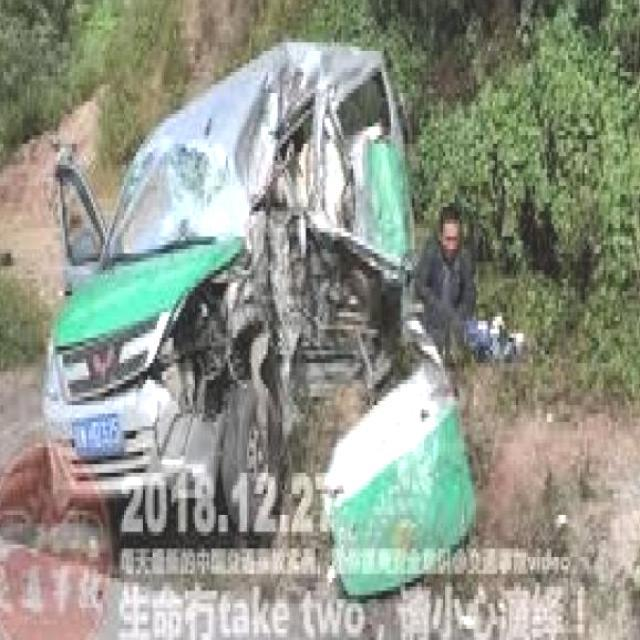accident: (45, 53, 438, 531)
